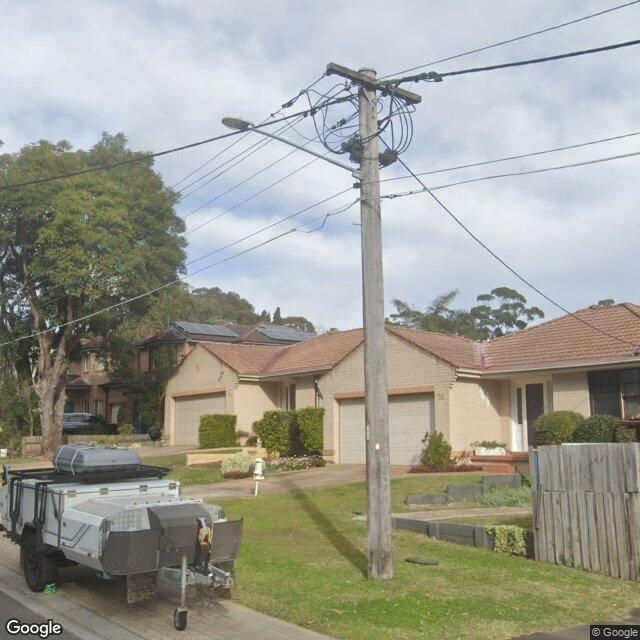crossarm: (324, 62, 422, 104)
streetlight: (222, 116, 364, 180)
timber-pole: (356, 69, 393, 581)
